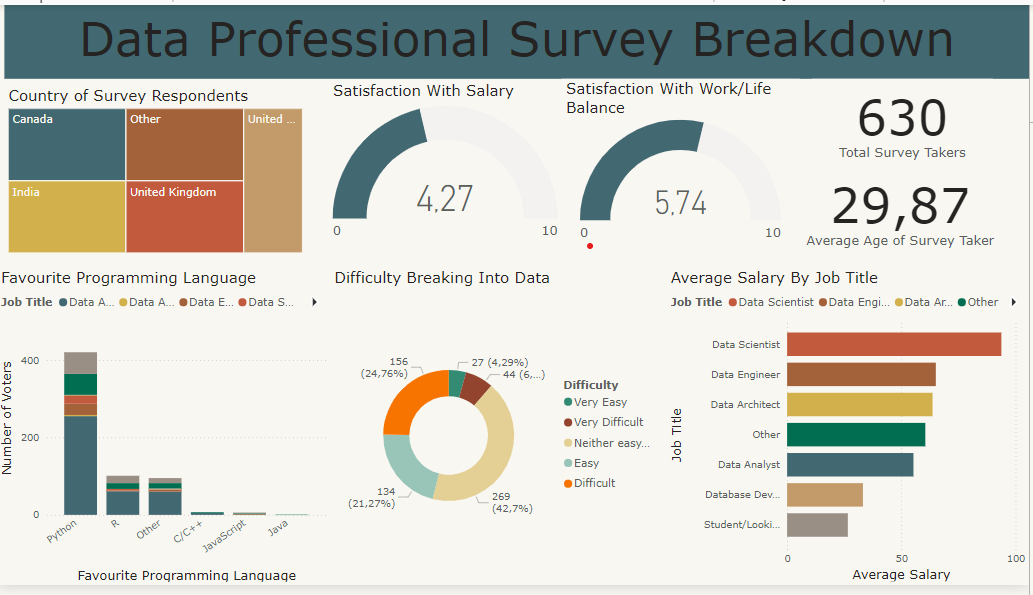

The page's visual inventory and layout, read from the dashboard file:
{"tool":"powerbi","page":{"name":"Page 1","canvas":[1280,720],"ordinal":0},"visuals":[{"type":"textbox","box":[9.1,0,1271.4,91.5],"z":0},{"type":"card","fields":{"Values":["CountNonNull(Data Professional Survey.Unique ID)"]},"box":[1026.3,91.5,223.2,107.9],"z":1000},{"type":"card","fields":{"Values":["Avg(Data Professional Survey.Q10 - Current Age)"]},"box":[1026.3,199.4,254.3,104.3],"z":2000},{"type":"barChart","title":"Average Salary By Job Title","fields":{"Category":["Data Professional Survey.Q1 - Which Title Best Fits your Current Role?.1"],"Y":["Avg(Data Professional Survey.average salary)"],"Series":["Data Professional Survey.Q1 - Which Title Best Fits your Current Role?.1"]},"box":[830,326,450,394],"z":3000},{"type":"columnChart","title":"Favourite Programming Language","fields":{"Category":["Data Professional Survey.Q5 - Favorite Programming Language.1"],"Y":["CountNonNull(Data Professional Survey.Unique ID)"],"Series":["Data Professional Survey.Q1 - Which Title Best Fits your Current Role?.1"]},"box":[0,325.6,413.4,395.1],"z":4000},{"type":"treemap","title":"Country of Survey Respondents","fields":{"Values":["Count(Data Professional Survey.Q11 - Which Country do you live in?.1)"],"Group":["Data Professional Survey.Q11 - Which Country do you live in?.1"]},"box":[20.1,91.5,375,212.2],"z":5000},{"type":"gauge","title":"Satisfaction With Work/Life Balance","fields":{"Y":["Avg(Data Professional Survey.Q6 - How Happy are you in your Current Position with the following? (Work/Life Balance))"],"MinValue":["Min(Data Professional Survey.Q6 - How Happy are you in your Current Position with the following? (Work/Life Balance))1"],"MaxValue":["Max(Data Professional Survey.Q6 - How Happy are you in your Current Position with the following? (Work/Life Balance))2"]},"box":[711.6,95.1,294.5,208.5],"z":6000},{"type":"gauge","title":"Satisfaction With Salary","fields":{"Y":["Avg(Data Professional Survey.Q6 - How Happy are you in your Current Position with the following? (Salary))"],"MinValue":["Min(Data Professional Survey.Q6 - How Happy are you in your Current Position with the following? (Salary))"],"MaxValue":["Max(Data Professional Survey.Q6 - How Happy are you in your Current Position with the following? (Salary))"]},"box":[413.4,91.5,263.4,212.2],"z":7000},{"type":"donutChart","title":"Difficulty Breaking Into Data","fields":{"Y":["CountNonNull(Data Professional Survey.Q7 - How difficult was it for you to break into Data?)"],"Category":["Data Professional Survey.Q7 - How difficult was it for you to break into Data?"]},"box":[413.4,325.6,417.1,395.1],"z":8000}]}

Visuals, with their boxes in screenshot pixels (x1, y1, x2, y2), scaled from the page's 1280x720 canvas onto the 1033x595 screenshot:
textbox: region(7, 0, 1032, 76)
card - CountNonNull(Data Professional Survey.Unique ID): region(828, 76, 1008, 165)
card - Avg(Data Professional Survey.Q10 - Current Age): region(828, 165, 1032, 251)
"Average Salary By Job Title" barChart: region(670, 269, 1032, 594)
"Favourite Programming Language" columnChart: region(0, 269, 334, 594)
"Country of Survey Respondents" treemap: region(16, 76, 319, 251)
"Satisfaction With Work/Life Balance" gauge: region(574, 79, 812, 251)
"Satisfaction With Salary" gauge: region(334, 76, 546, 251)
"Difficulty Breaking Into Data" donutChart: region(334, 269, 670, 594)
